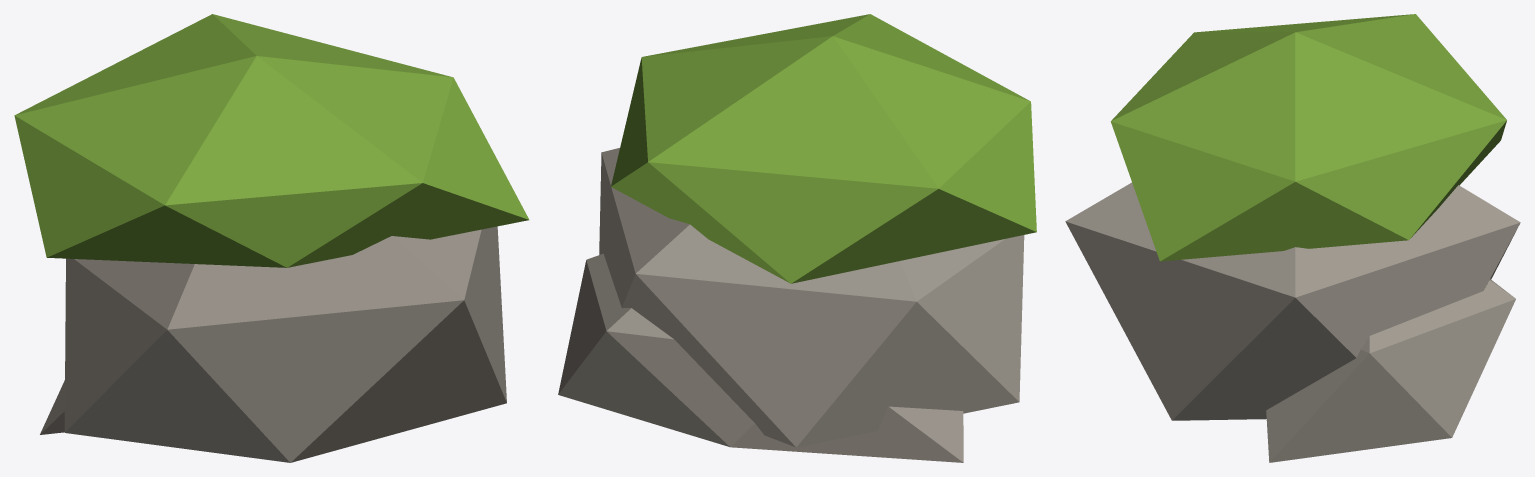
Rendered from HS_LP_Rock_Large_Moss_01.fbx.
The picture shows the model from 3 angles, left to right: view 1: azimuth 30°, elevation 25°; view 2: azimuth 150°, elevation 25°; view 3: azimuth 270°, elevation 25°; orthographic projection. The views are drawn at different scales.
Parts seen in each view (by area): view 1: HS_LP_Rock_Large_Moss_01; view 2: HS_LP_Rock_Large_Moss_01; view 3: HS_LP_Rock_Large_Moss_01.
Part boxes in pixels (left/top/right/bottom): HS_LP_Rock_Large_Moss_01: left=14, top=14, right=529, bottom=462; HS_LP_Rock_Large_Moss_01: left=558, top=14, right=1036, bottom=462; HS_LP_Rock_Large_Moss_01: left=1065, top=14, right=1520, bottom=462.
Bounding box in the file's own units: 136 × 114 × 133.
